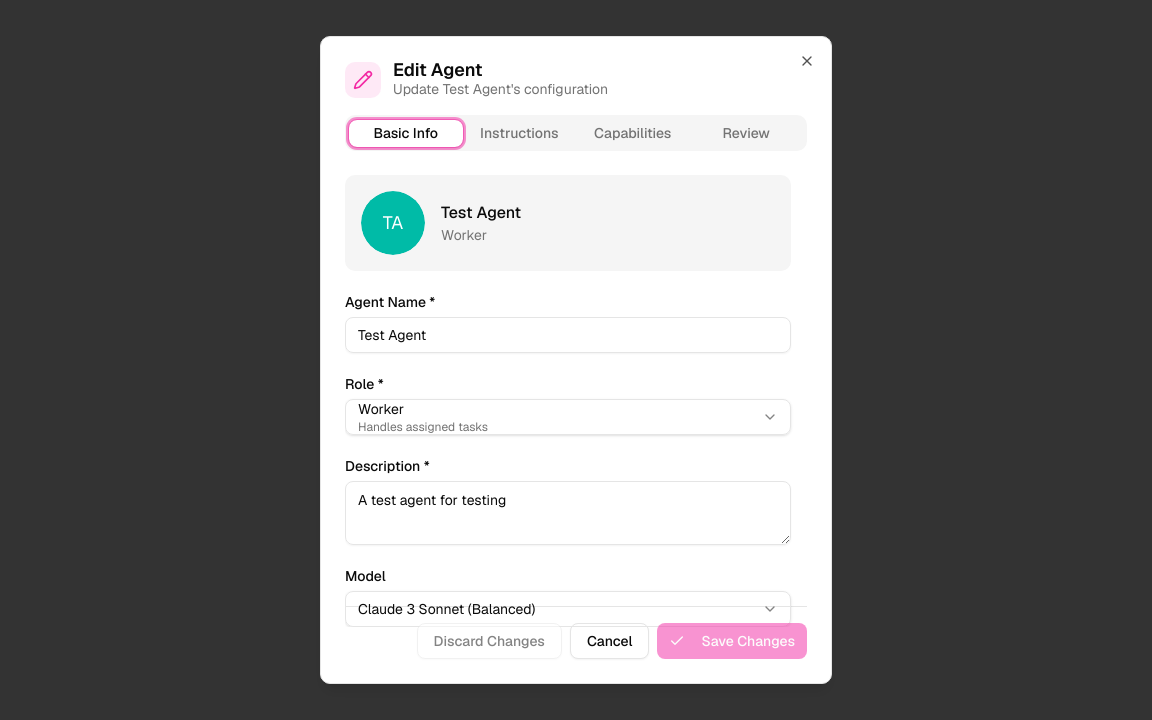
Test: EditAgentModal › switches to instructions tab
The width and height of the screenshot is (1152, 720).
Click the tab "Instructions". click: {"x": 519, "y": 133}
box: [462,120,576,146]
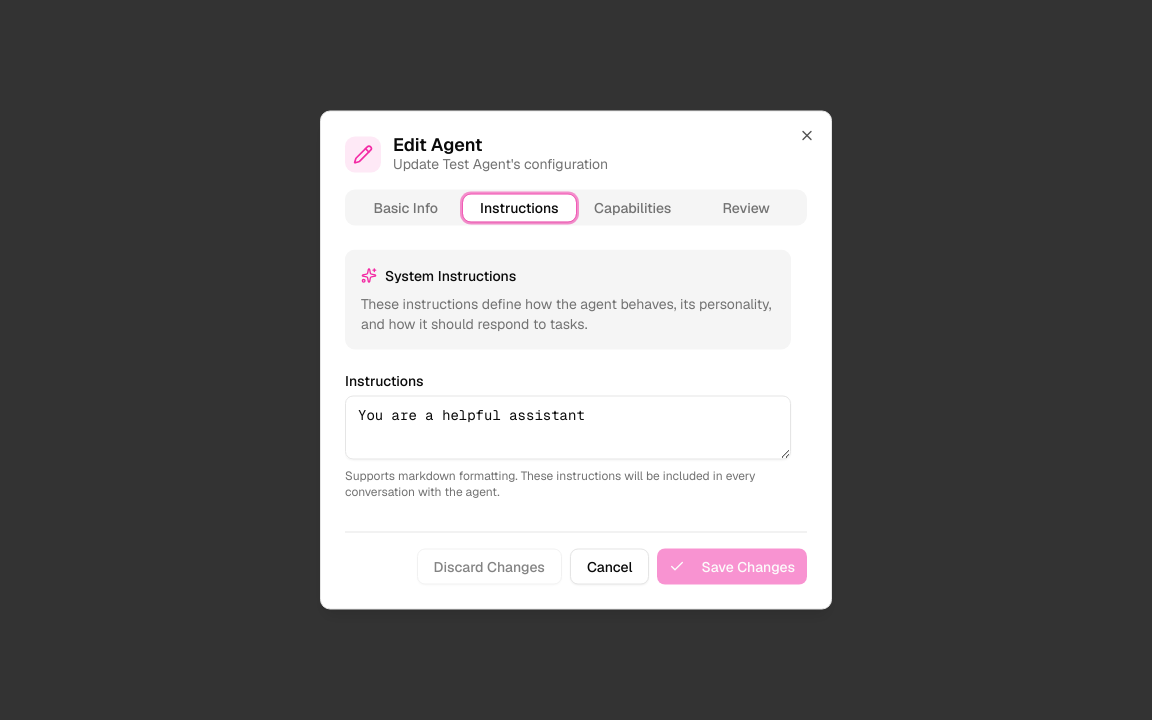
expect the text box labelled "Instructions" is shown: met, box [345,396,791,460]
